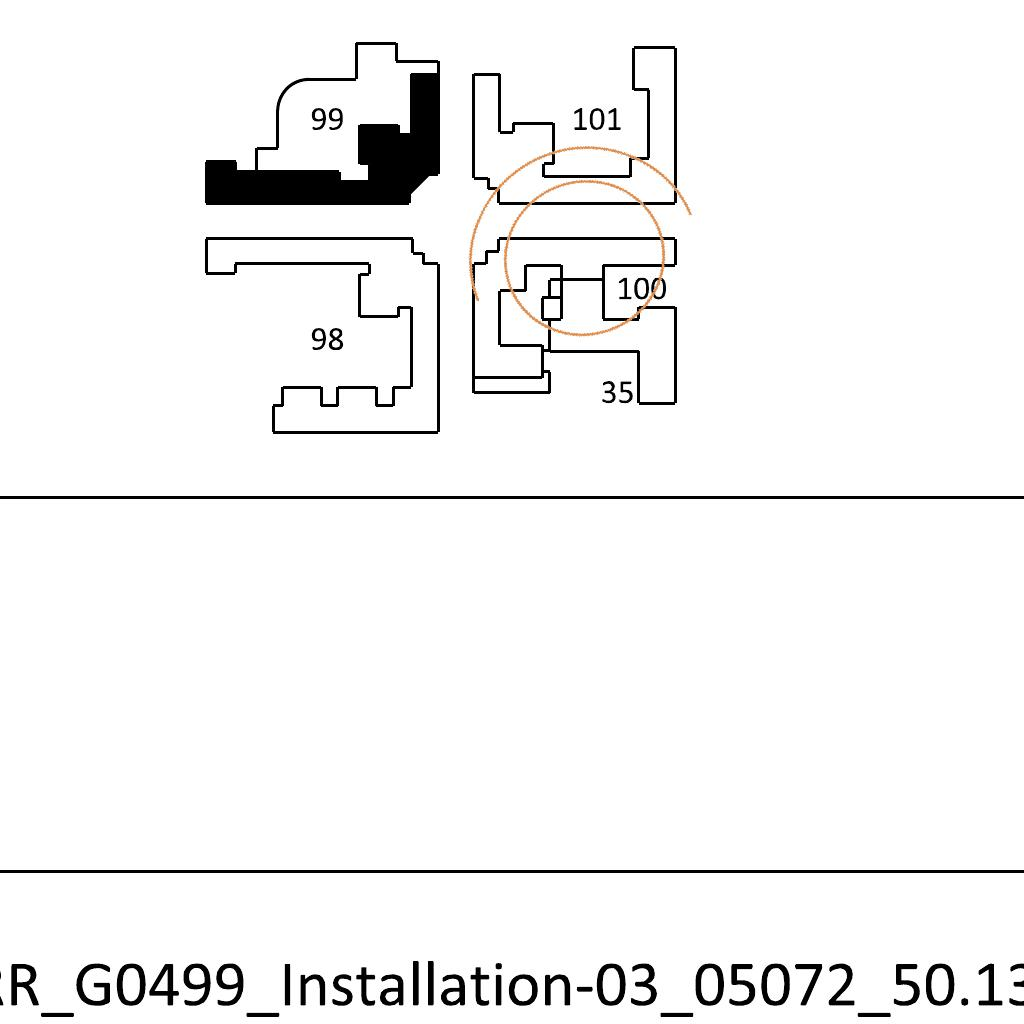Scheinwerfer_fuer_Alarmbeleuchtung: (410, 97, 740, 406)
